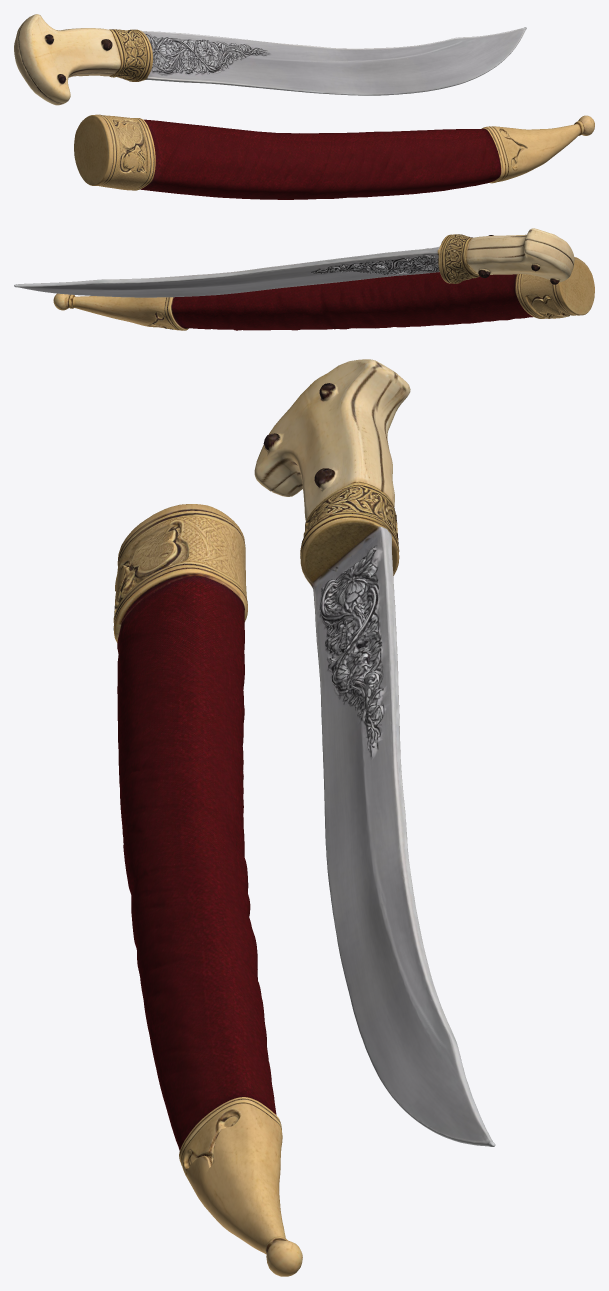
Rendered from Klasik kulaklı yatağan.glb.
3 views of the same model, one above another, from view 1: azimuth 30°, elevation 25°; view 2: azimuth 150°, elevation 25°; view 3: azimuth 270°, elevation 25° (orthographic). The views are drawn at different scales.
Visible parts, largest first — view 1: tripo_node_507e5862-964c-4884-a2c1-c48efc41965a; view 2: tripo_node_507e5862-964c-4884-a2c1-c48efc41965a; view 3: tripo_node_507e5862-964c-4884-a2c1-c48efc41965a.
Part boxes in pixels (x1=…): tripo_node_507e5862-964c-4884-a2c1-c48efc41965a: x1=14, y1=14, x2=594, y2=199; tripo_node_507e5862-964c-4884-a2c1-c48efc41965a: x1=14, y1=228, x2=594, y2=330; tripo_node_507e5862-964c-4884-a2c1-c48efc41965a: x1=113, y1=359, x2=495, y2=1276.
Bounding box in the file's own units: 0.9799 × 0.4005 × 0.3084.
Materials: 1 (1 with a texture image).
